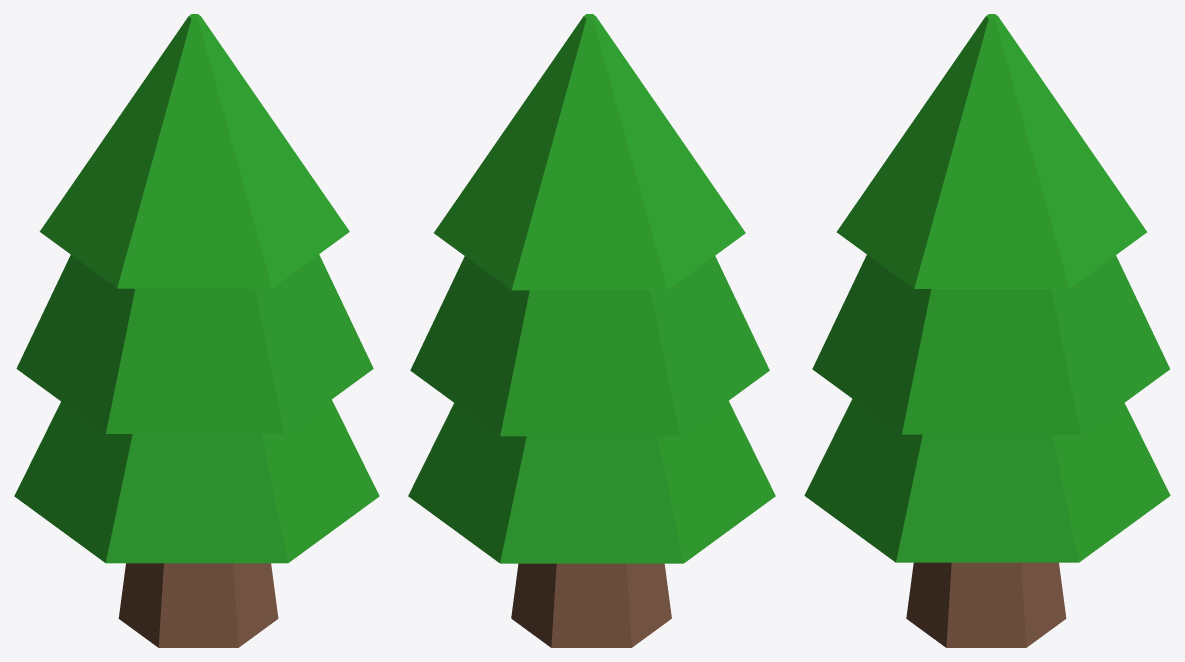
Rendered from tree.fbx.
The picture shows the model from 3 angles, left to right: view 1: azimuth 30°, elevation 25°; view 2: azimuth 150°, elevation 25°; view 3: azimuth 270°, elevation 25°; orthographic projection.
Visible parts, largest first — view 1: Cylinder.003, Cylinder.002, Cylinder.001, Cylinder; view 2: Cylinder.003, Cylinder.002, Cylinder.001, Cylinder; view 3: Cylinder.003, Cylinder.002, Cylinder.001, Cylinder.
Boxes of the visible parts, x1,y1,x2,y2 form: Cylinder.003: (39, 14, 349, 288); Cylinder.002: (16, 254, 373, 433); Cylinder.001: (14, 399, 379, 563); Cylinder: (118, 563, 278, 647); Cylinder.003: (434, 14, 745, 290); Cylinder.002: (410, 256, 769, 436); Cylinder.001: (408, 401, 775, 563); Cylinder: (511, 563, 671, 647); Cylinder.003: (836, 14, 1146, 288); Cylinder.002: (812, 255, 1169, 434); Cylinder.001: (804, 399, 1170, 562); Cylinder: (906, 562, 1066, 647).
Size of the model in its own units: 266 by 558 by 308.
